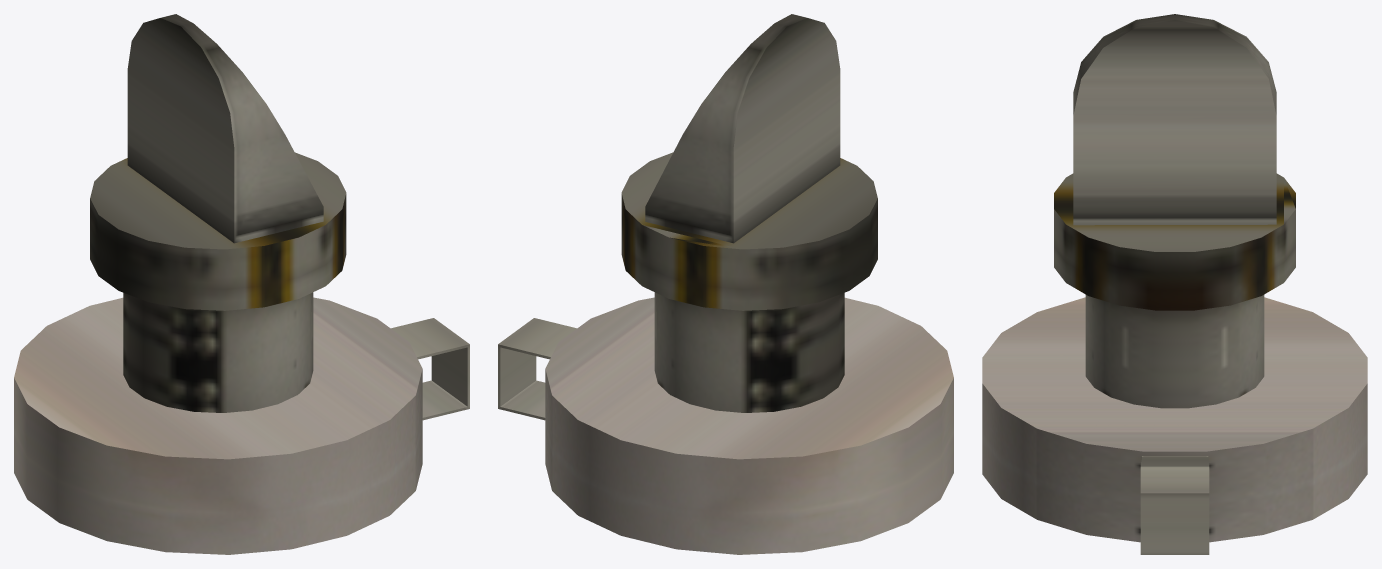
Rendered from mast_02.dae.
3 renders of one model, left to right at view 1: azimuth 30°, elevation 25°; view 2: azimuth 150°, elevation 25°; view 3: azimuth 270°, elevation 25°, orthographic. The views are drawn at different scales.
Parts seen in each view (by area): view 1: mast_02; view 2: mast_02; view 3: mast_02.
Part boxes in pixels (box(x1,y1,x2,y2)): mast_02: box(14, 14, 469, 554); mast_02: box(498, 14, 953, 554); mast_02: box(982, 14, 1367, 554).
Size of the model in its own units: 0.271 by 0.2321 by 0.286.
Materials: 1 (1 with a texture image).
